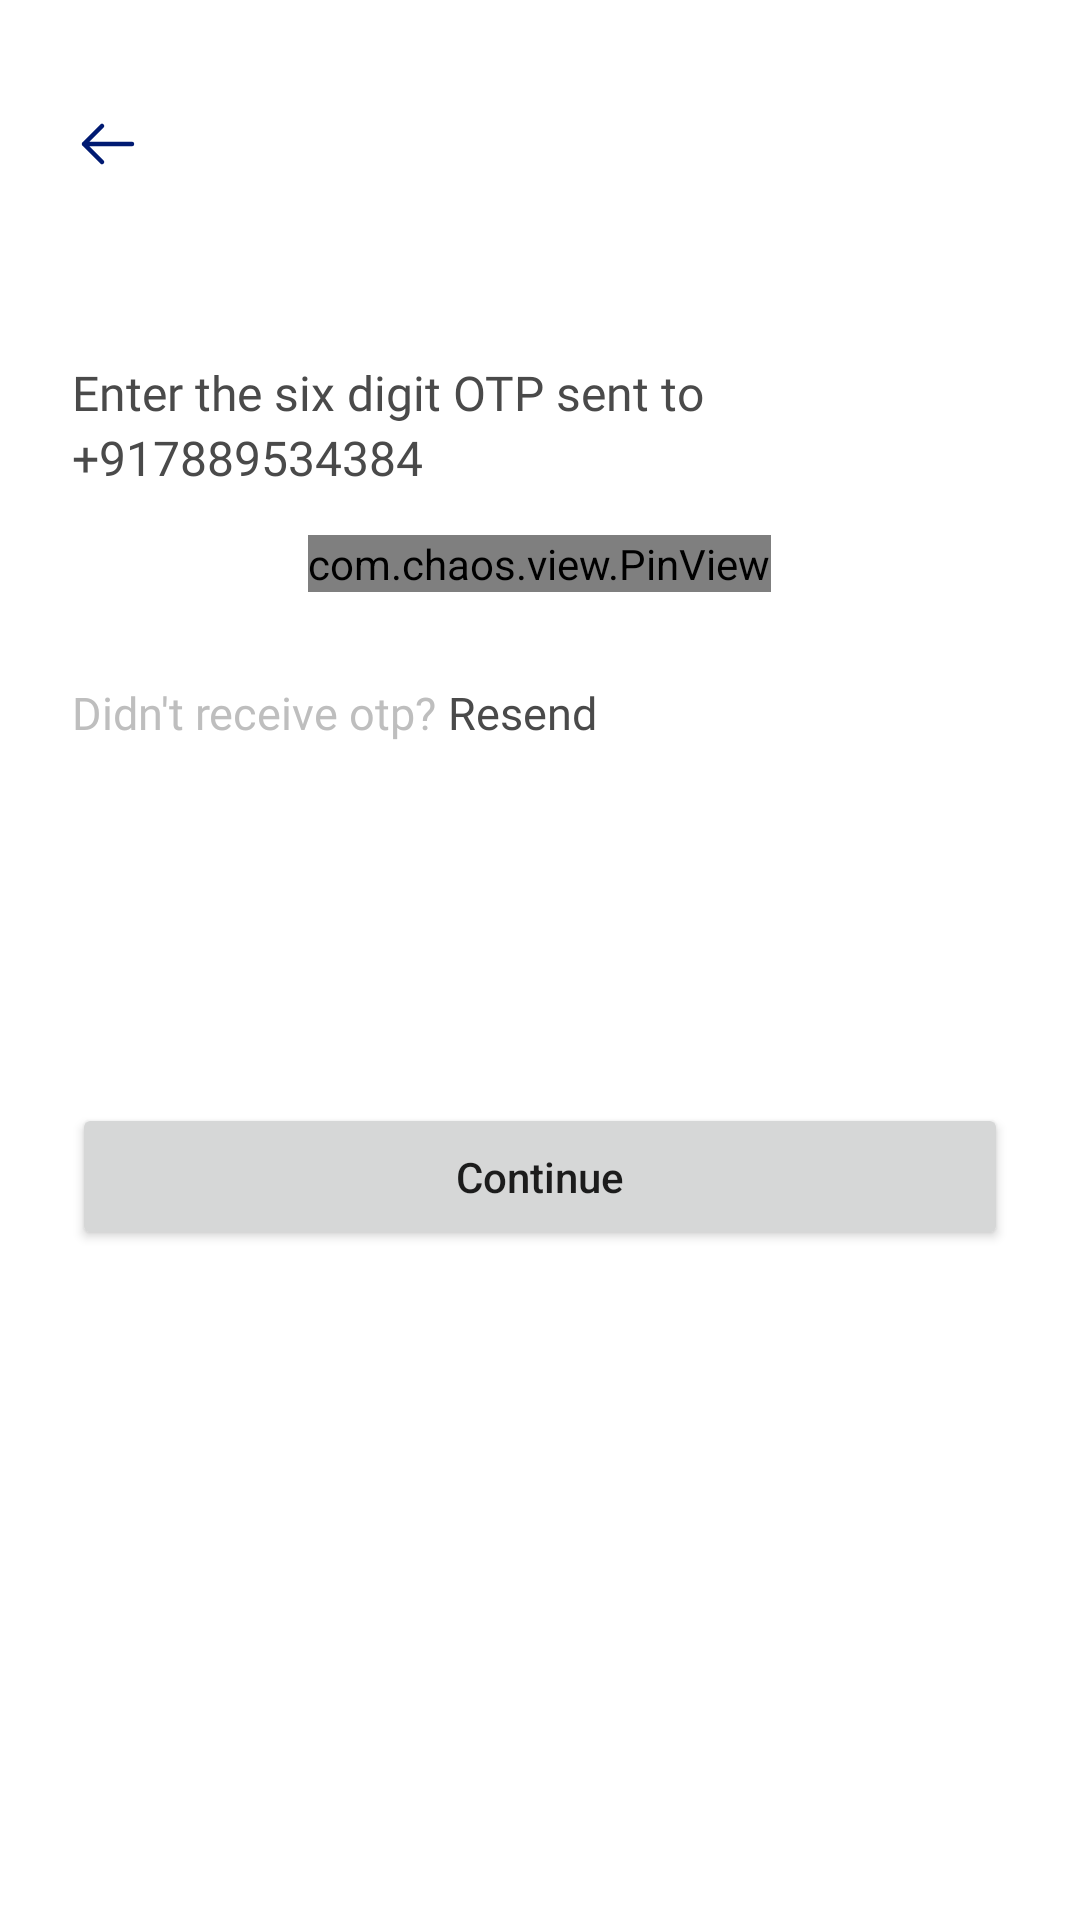

Icons on this 1080 × 1920 Android screen, each with the point to tap as (x,y):
arrow left: (107,144)
